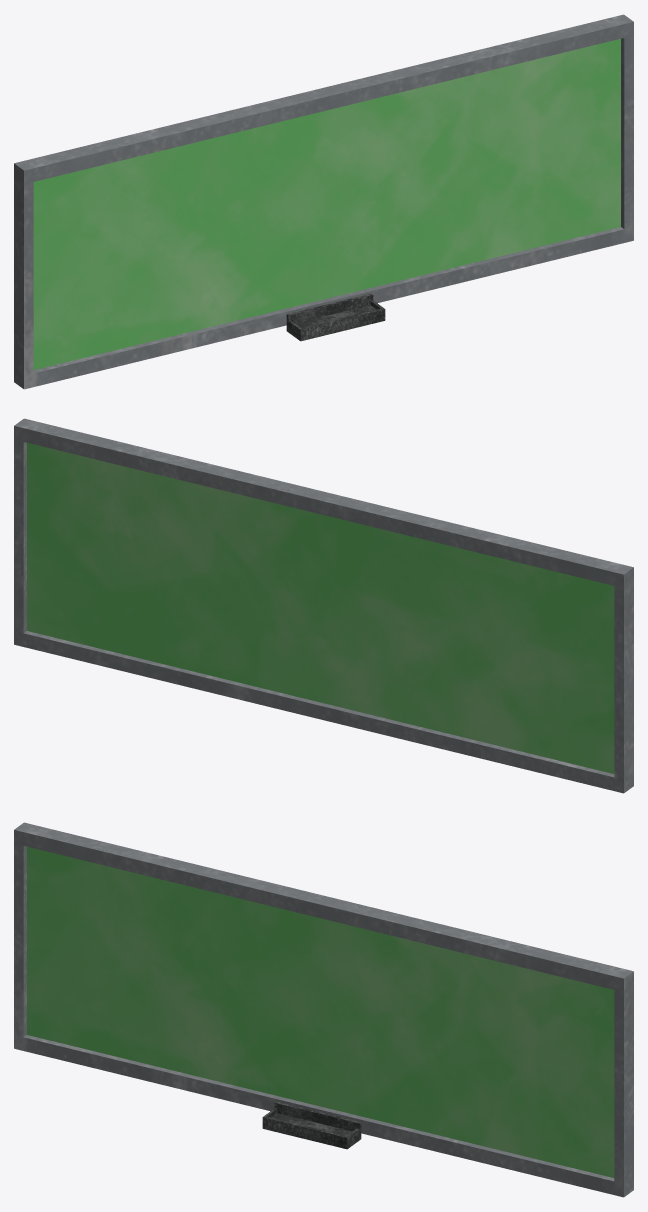
File: BoardChalk.fbx
3 views of the same model, one above another, from view 1: azimuth 30°, elevation 25°; view 2: azimuth 150°, elevation 25°; view 3: azimuth 330°, elevation 25° (orthographic).
Visible parts, largest first — view 1: BoardChalk; view 2: BoardChalk; view 3: BoardChalk.
Boxes of the visible parts, box(x1,y1,x2,y2) form: BoardChalk: box(14, 14, 633, 389); BoardChalk: box(14, 418, 633, 793); BoardChalk: box(14, 822, 633, 1197).
Size of the model in its own units: 3.5 by 1.23 by 0.2395.
